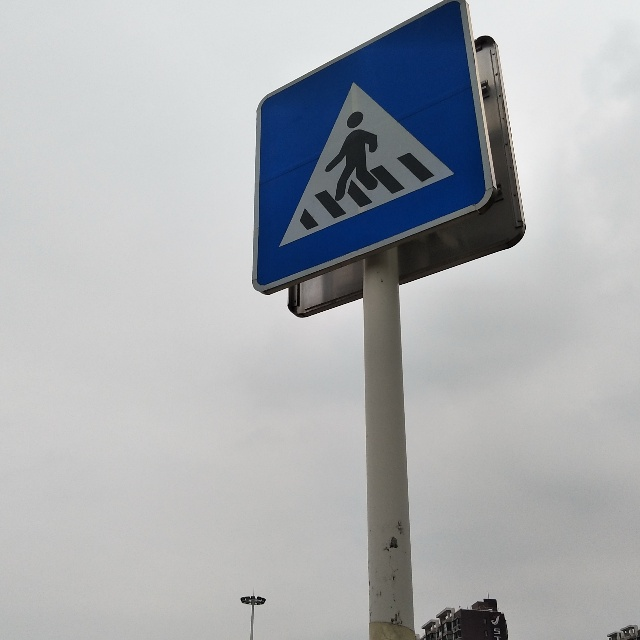crosswalk: (280, 82, 451, 238)
